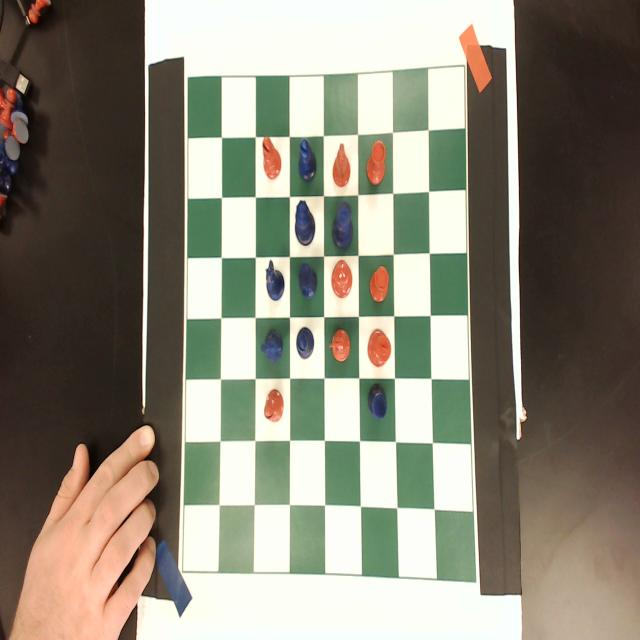B: (298, 138, 317, 186), (296, 325, 315, 361)
K: (331, 198, 354, 254)
N: (264, 256, 286, 303), (260, 326, 284, 364)
Q: (295, 198, 316, 248)
R: (367, 383, 389, 420), (298, 261, 318, 300)
b: (262, 136, 282, 182), (263, 387, 285, 424)
k: (366, 326, 392, 369)
n: (331, 140, 351, 188), (329, 327, 351, 365)
q: (331, 258, 353, 300)
r: (366, 140, 386, 188), (369, 264, 391, 305)
